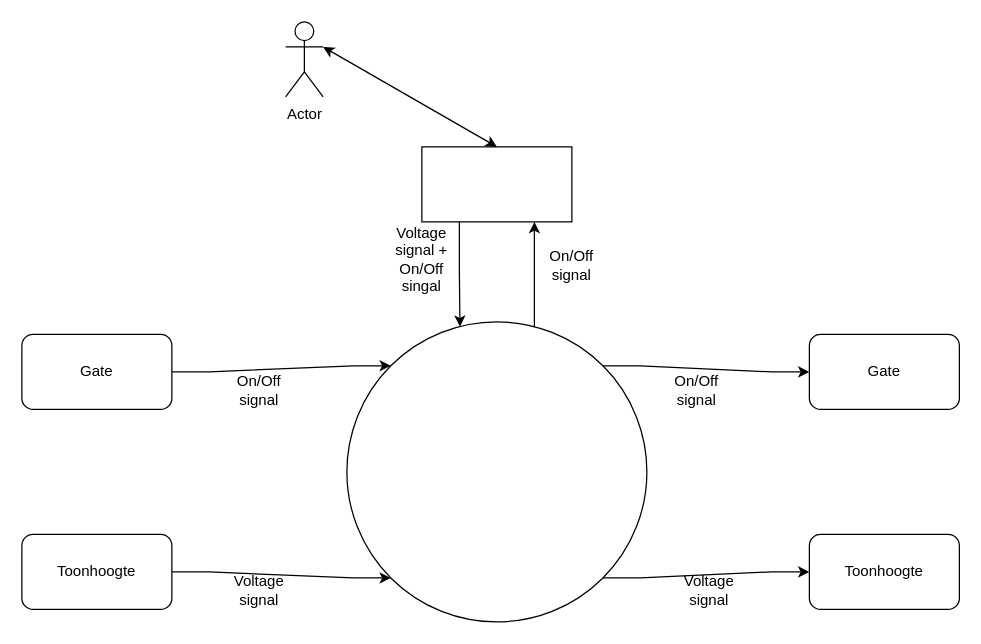
The diagram is 981 pixels wide and 644 high, and some of its shapes have lost their labels. The shapes that lost their labels are listed below. From the top down, each one's box as (x1, y1, x2, y2) in pixels, then its label:
(421, 146, 572, 222): User interface
(346, 321, 647, 622): Main micro controller
